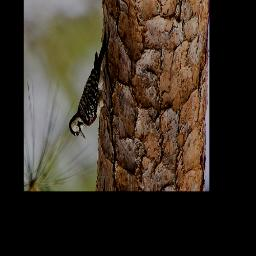Woodpecker: (69, 27, 114, 139)
